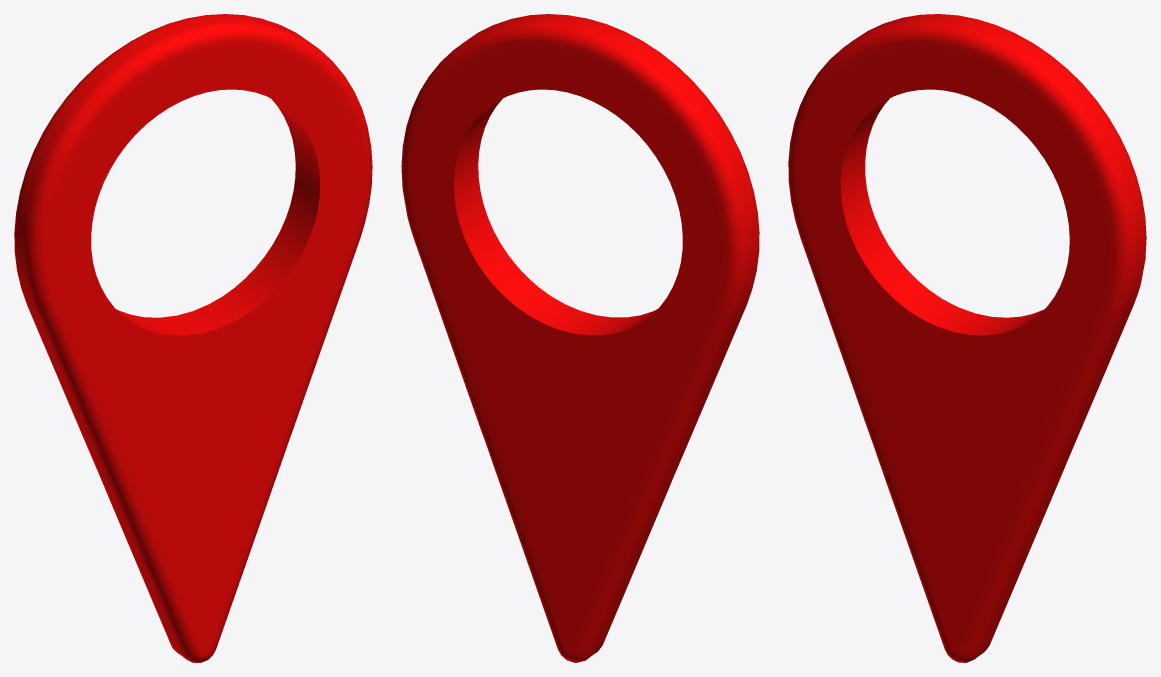
The model's file is locationPin.fbx.
3 views of the same model, side by side, from view 1: azimuth 30°, elevation 25°; view 2: azimuth 150°, elevation 25°; view 3: azimuth 330°, elevation 25° (orthographic).
Parts seen in each view (by area): view 1: default; view 2: default; view 3: default.
Part boxes in pixels (x1,y1,x2,y2): default: (14,14,372,662); default: (401,14,759,662); default: (788,14,1146,662).
Size of the model in its own units: 81.41 by 143 by 10.
